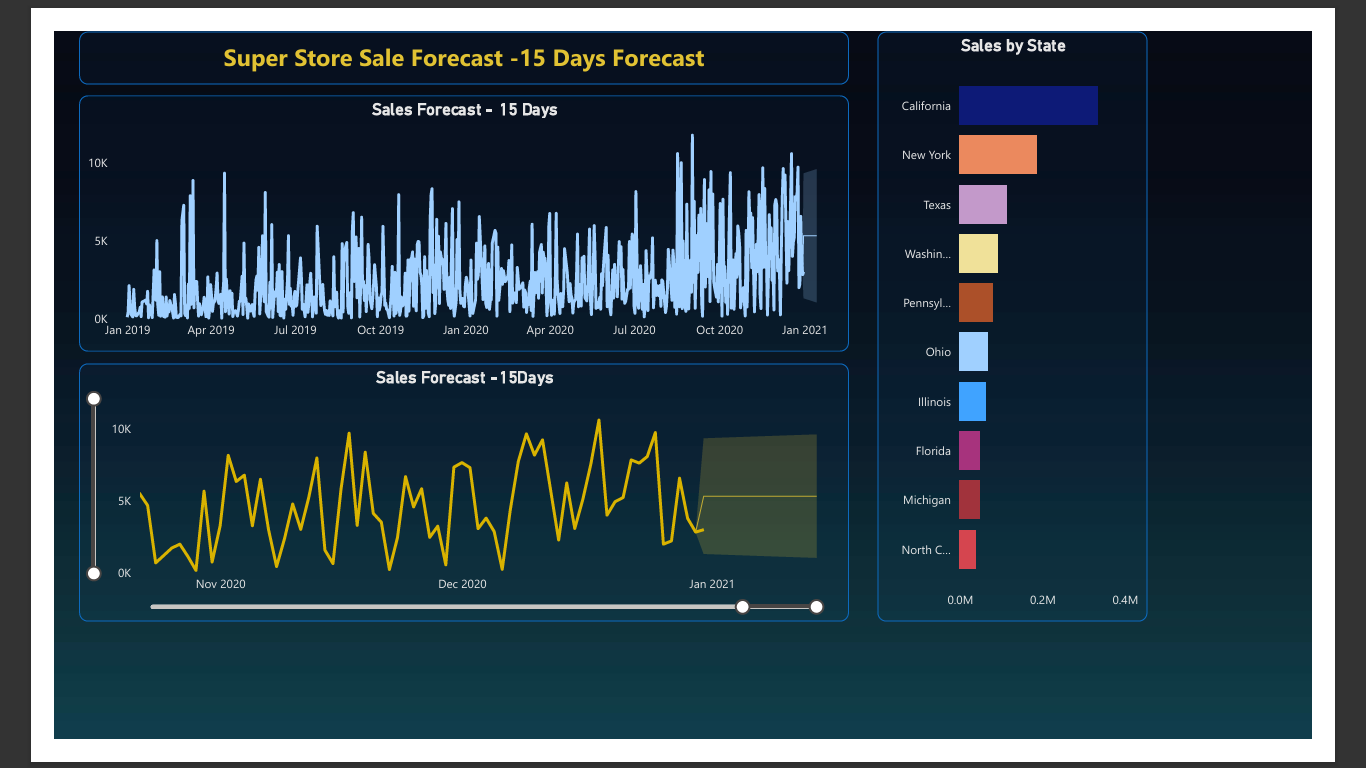

Layout of this report page (visuals, bound fields, positions):
{"tool":"powerbi","page":{"name":"Page 2","canvas":[1280,720],"ordinal":1},"visuals":[{"type":"lineChart","title":"Sales Forecast - 15 Days","fields":{"Y":["Sum(SuperStore_Sales_Dataset.Sales)"],"Category":["SuperStore_Sales_Dataset.Order Date.Variation.Date Hierarchy.Year","SuperStore_Sales_Dataset.Order Date.Variation.Date Hierarchy.Quarter","SuperStore_Sales_Dataset.Order Date.Variation.Date Hierarchy.Month","SuperStore_Sales_Dataset.Order Date.Variation.Date Hierarchy.Day"]},"box":[25,65,783.8,261.2],"z":0},{"type":"lineChart","title":"Sales Forecast -15Days","fields":{"Y":["Sum(SuperStore_Sales_Dataset.Sales)"],"Category":["SuperStore_Sales_Dataset.Order Date.Variation.Date Hierarchy.Year","SuperStore_Sales_Dataset.Order Date.Variation.Date Hierarchy.Quarter","SuperStore_Sales_Dataset.Order Date.Variation.Date Hierarchy.Month","SuperStore_Sales_Dataset.Order Date.Variation.Date Hierarchy.Day"]},"box":[25,337.5,783.8,263.8],"z":1000},{"type":"clusteredBarChart","title":"Sales by State","fields":{"Y":["Sum(SuperStore_Sales_Dataset.Sales)"],"Category":["SuperStore_Sales_Dataset.State"]},"box":[837.5,0,275,601.2],"z":2000},{"type":"textbox","box":[25,0,783.8,53.8],"z":3000}]}

Visuals, with their boxes in screenshot pixels (x1, y1, x2, y2), scaled from the page's 1280x720 canvas onto the 1366x768 screenshot:
"Sales Forecast - 15 Days" lineChart: x1=27, y1=69, x2=863, y2=348
"Sales Forecast -15Days" lineChart: x1=27, y1=360, x2=863, y2=641
"Sales by State" clusteredBarChart: x1=894, y1=0, x2=1187, y2=641
textbox: x1=27, y1=0, x2=863, y2=57
